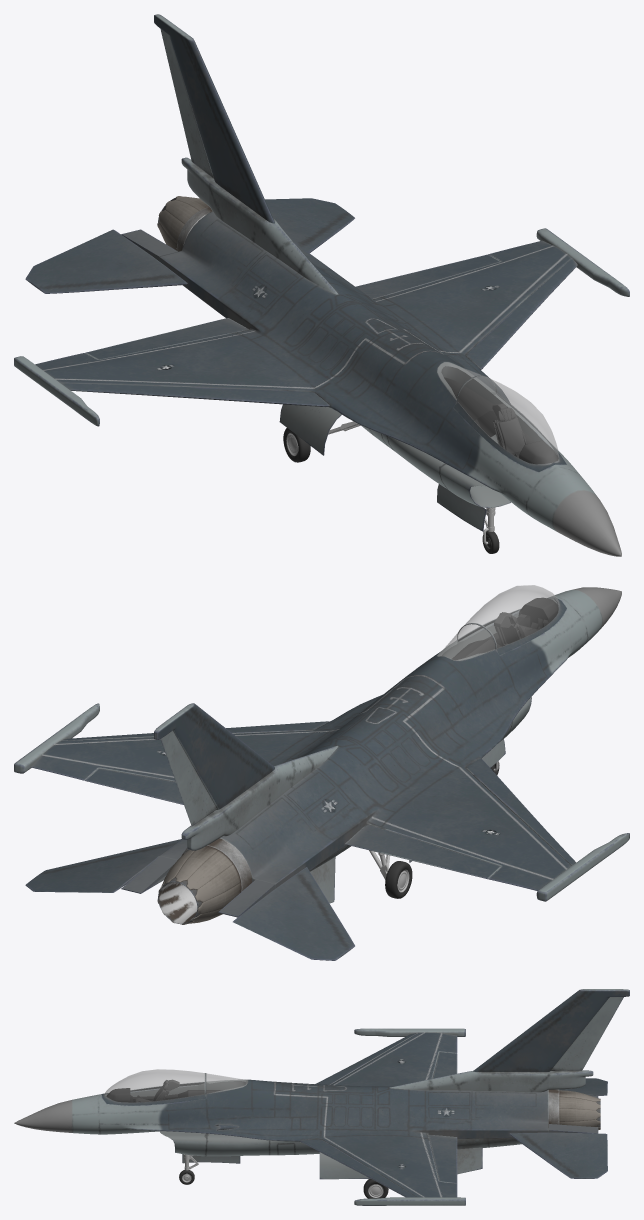
Rendered from f16-fighting-falcon.glb.
3 views of the same model, one above another, from view 1: azimuth 30°, elevation 25°; view 2: azimuth 150°, elevation 25°; view 3: azimuth 270°, elevation 25° (orthographic). The views are drawn at different scales.
Parts seen in each view (by area): view 1: f16-fighting-falcon; view 2: f16-fighting-falcon; view 3: f16-fighting-falcon.
Boxes of the visible parts, x1,y1,x2,y2 form: f16-fighting-falcon: (14,14,629,556); f16-fighting-falcon: (14,585,629,960); f16-fighting-falcon: (14,989,629,1205).
Size of the model in its own units: 1.33 by 0.7012 by 2.01.
Materials: 5 (5 with a texture image).
